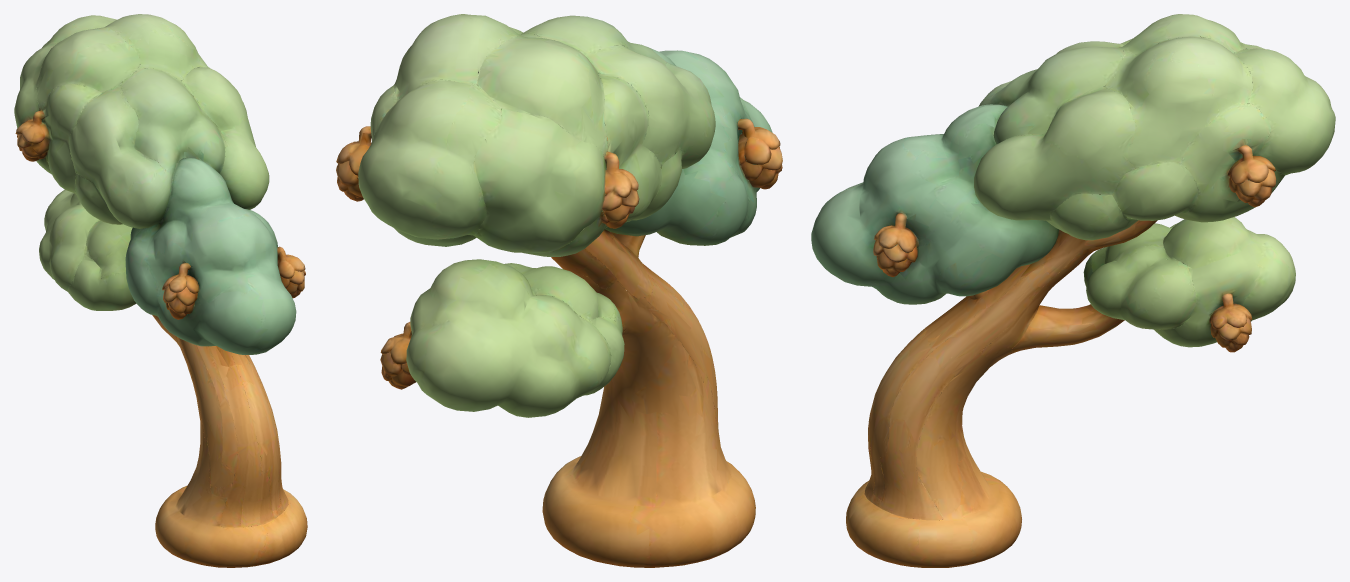
Rendered from E01-coastal-pine-tree.glb.
The picture shows the model from 3 angles, left to right: view 1: azimuth 30°, elevation 25°; view 2: azimuth 150°, elevation 25°; view 3: azimuth 270°, elevation 25°; orthographic projection. The views are drawn at different scales.
Parts seen in each view (by area): view 1: E01-coastal-pine-tree; view 2: E01-coastal-pine-tree; view 3: E01-coastal-pine-tree.
Part boxes in pixels (bbox=[...]): E01-coastal-pine-tree: bbox=[14, 14, 307, 567]; E01-coastal-pine-tree: bbox=[336, 14, 782, 567]; E01-coastal-pine-tree: bbox=[811, 14, 1335, 567].
Size of the model in its own units: 2.1 by 4.6 by 4.33.
1 material, 1 textured.
